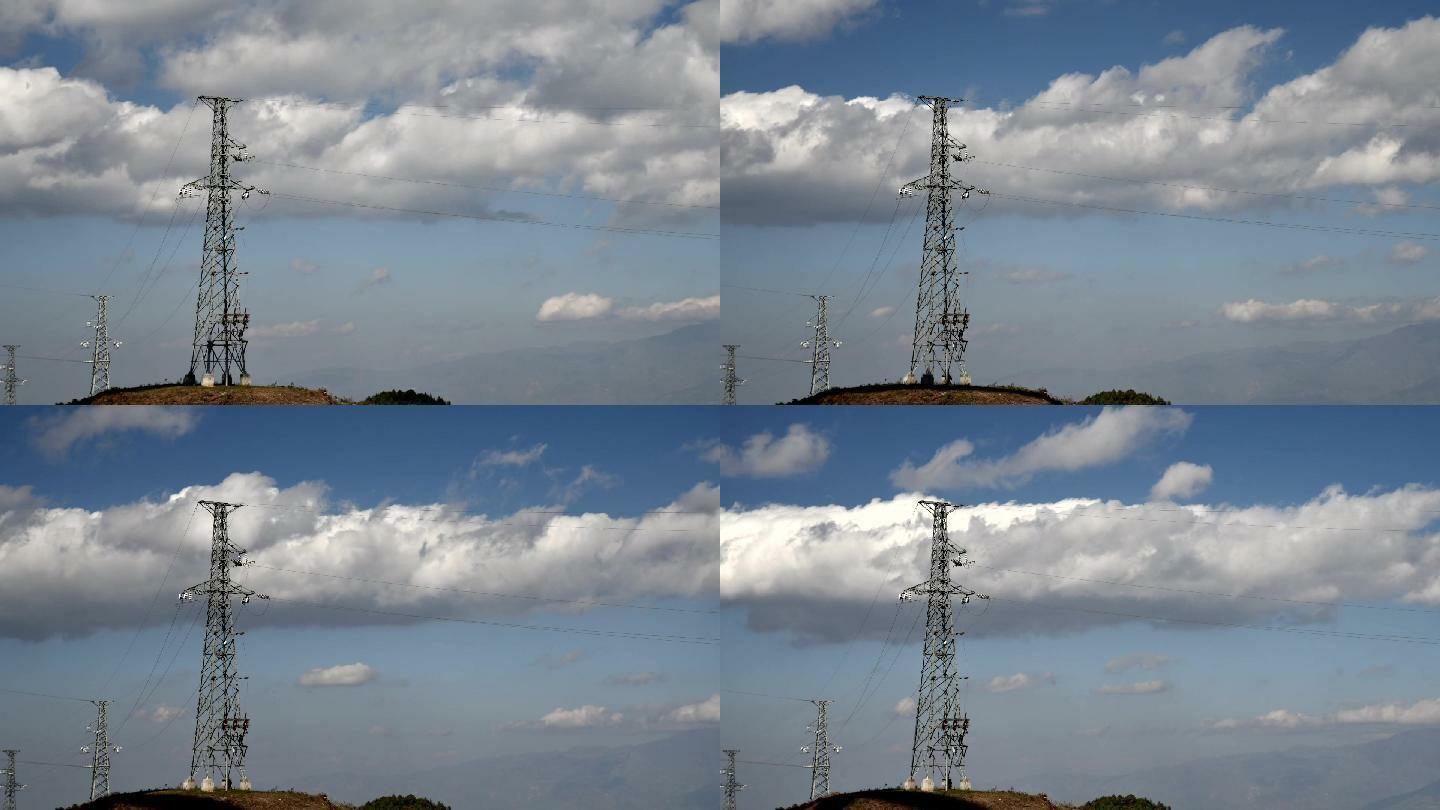power_tower: (169, 496, 267, 806), (176, 88, 267, 391), (891, 89, 981, 383), (902, 483, 981, 798), (76, 286, 127, 399), (78, 689, 129, 800), (801, 696, 846, 806), (800, 291, 843, 399), (710, 743, 753, 806), (0, 338, 38, 407), (719, 334, 750, 407)
